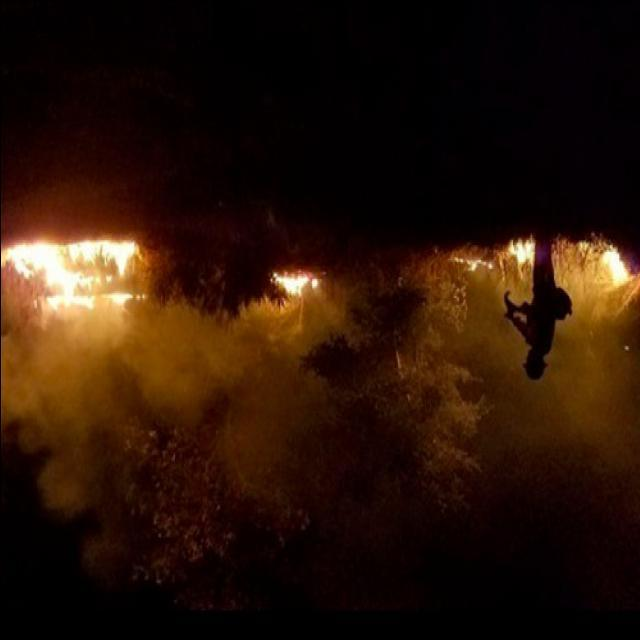Fire: (0, 226, 141, 334), (466, 234, 628, 294), (262, 254, 320, 320)
